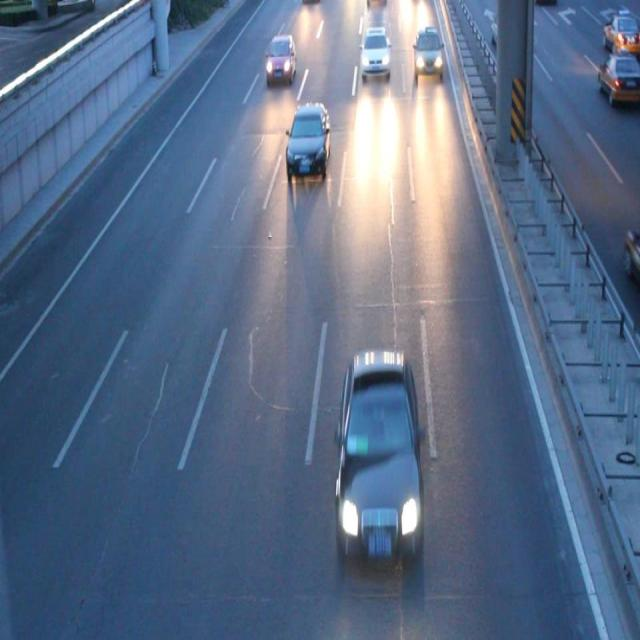car: (335, 352, 422, 558), (286, 102, 330, 172), (598, 51, 640, 103), (601, 13, 640, 53), (360, 28, 389, 74), (412, 30, 442, 73), (266, 36, 295, 80), (489, 12, 522, 50)
